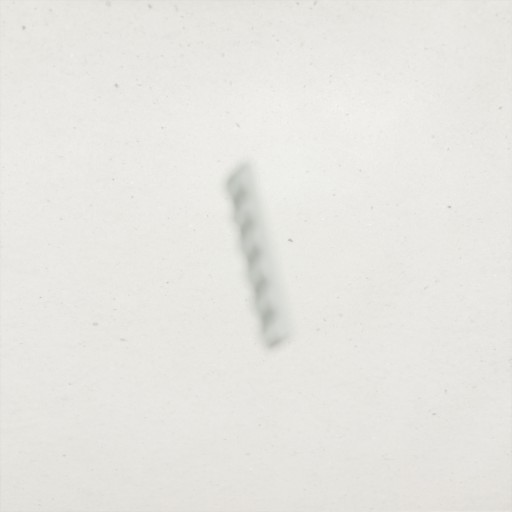lego: (222, 157, 297, 353)
